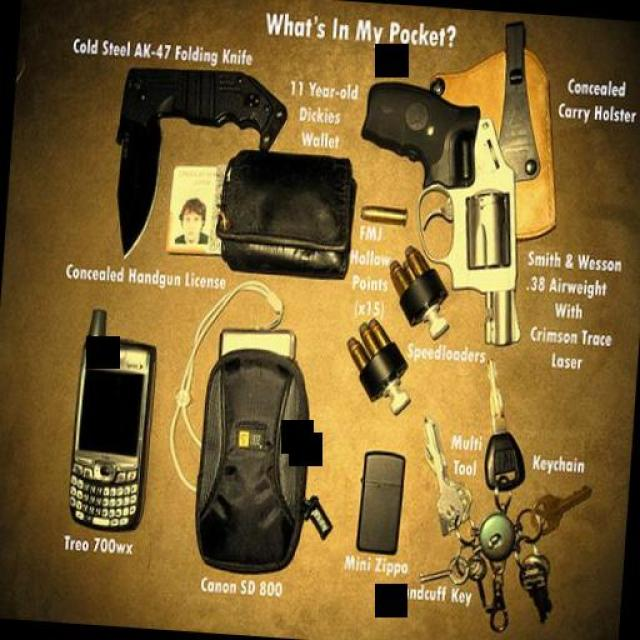gun: (349, 72, 535, 350)
